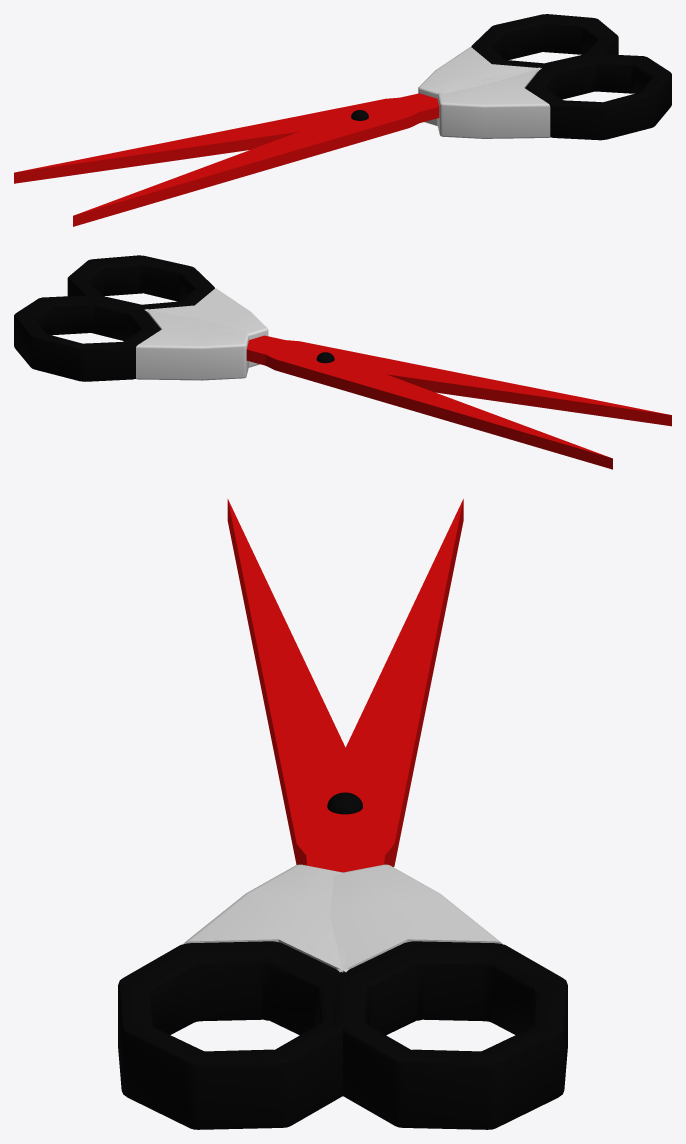
The model's file is tijeras.fbx.
The picture shows the model from 3 angles, top to bottom: view 1: azimuth 30°, elevation 25°; view 2: azimuth 150°, elevation 25°; view 3: azimuth 270°, elevation 25°; orthographic projection. The views are drawn at different scales.
Visible parts, largest first — view 1: EXP_Tijeras; view 2: EXP_Tijeras; view 3: EXP_Tijeras.
Boxes of the visible parts, x1,y1,x2,y2 form: EXP_Tijeras: [14, 14, 671, 226]; EXP_Tijeras: [14, 255, 671, 469]; EXP_Tijeras: [118, 499, 567, 1129].
Bounding box in the file's own units: 0.5657 × 0.0316 × 0.1867.
